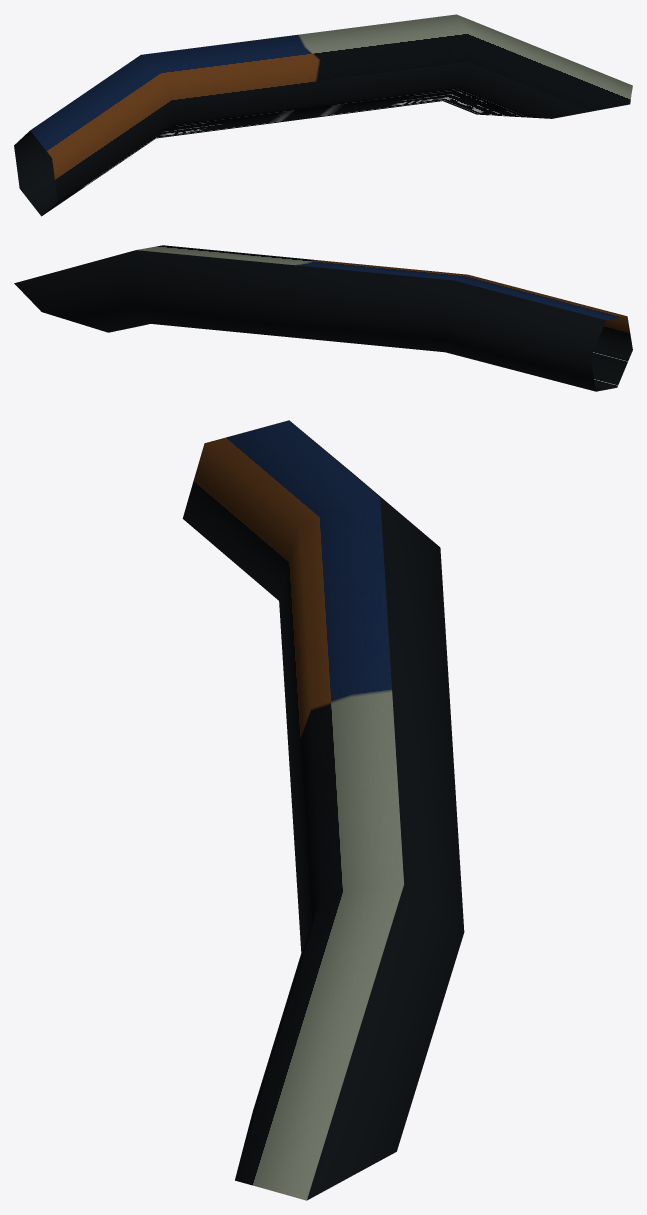
The model's file is cell_59.obj.
3 renders of one model, top to bottom at view 1: azimuth 30°, elevation 25°; view 2: azimuth 150°, elevation 25°; view 3: azimuth 270°, elevation 25°, orthographic. The views are drawn at different scales.
Visible parts, largest first — view 1: cell_59; view 2: cell_59; view 3: cell_59.
Part boxes in pixels (x1,y1,x2,y2): cell_59: [14, 14, 632, 216]; cell_59: [14, 245, 632, 391]; cell_59: [182, 420, 464, 1200].
Size of the model in its own units: 0.2459 by 0.0512 by 0.051.
